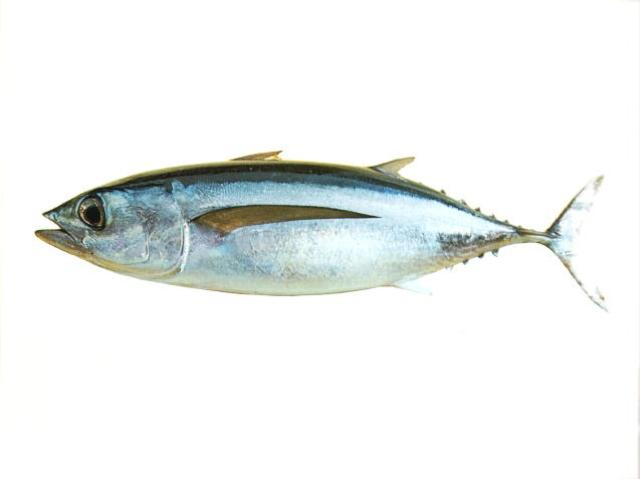Mulut: (16, 182, 112, 272)
Sirip Dada: (177, 191, 396, 257)
Sirip Ekor: (512, 158, 634, 332)
Sirip Punggung: (219, 138, 427, 200)
